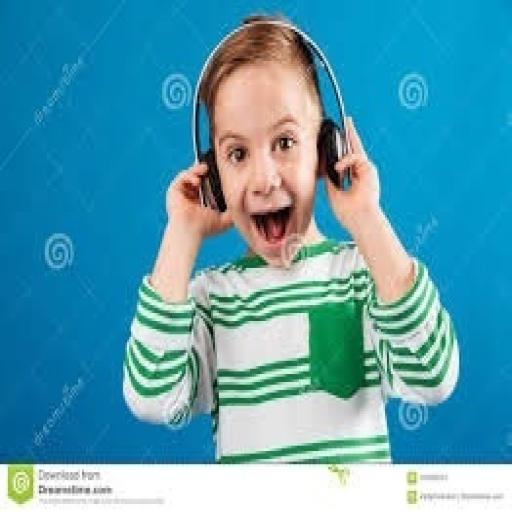listening_to_music: (119, 14, 461, 464), (188, 13, 352, 215)
